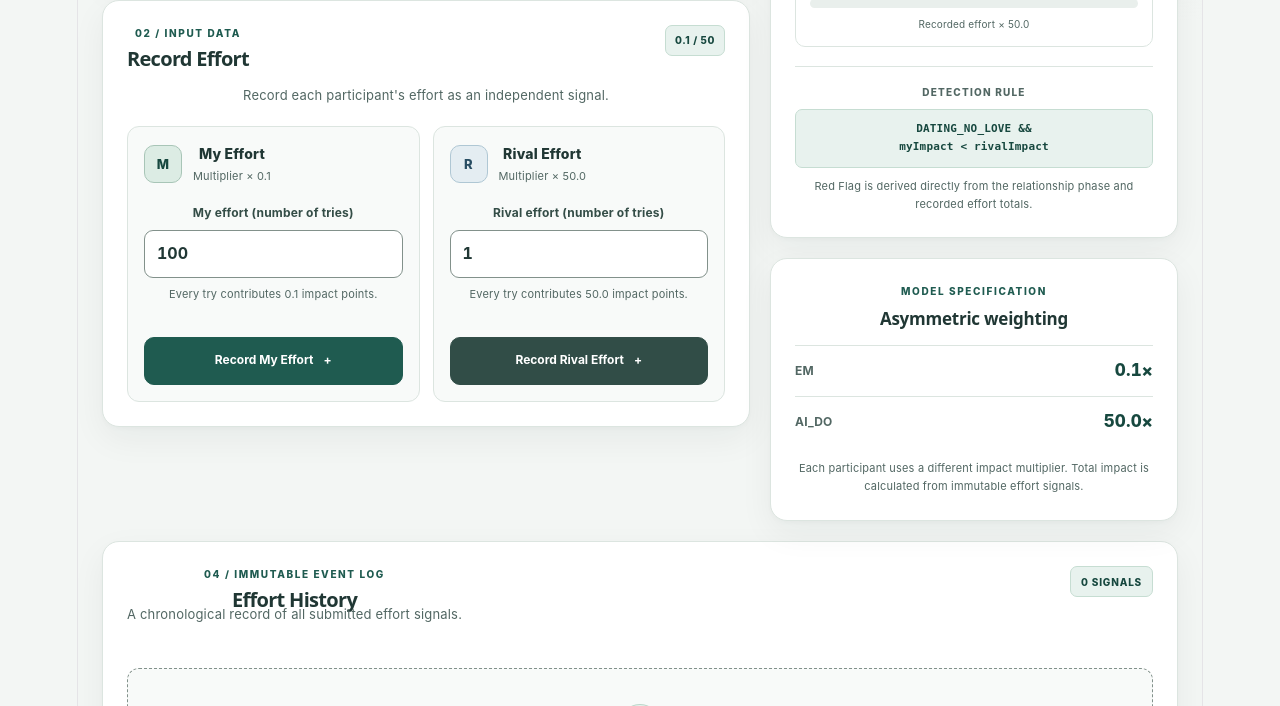
Test case: SituationshipAnalyzer › records effort signals and calculates total impacts
(page scrolled)
Click the button "Record My Effort +" at (273, 361), box x1=144 y1=337 x2=402 y2=385
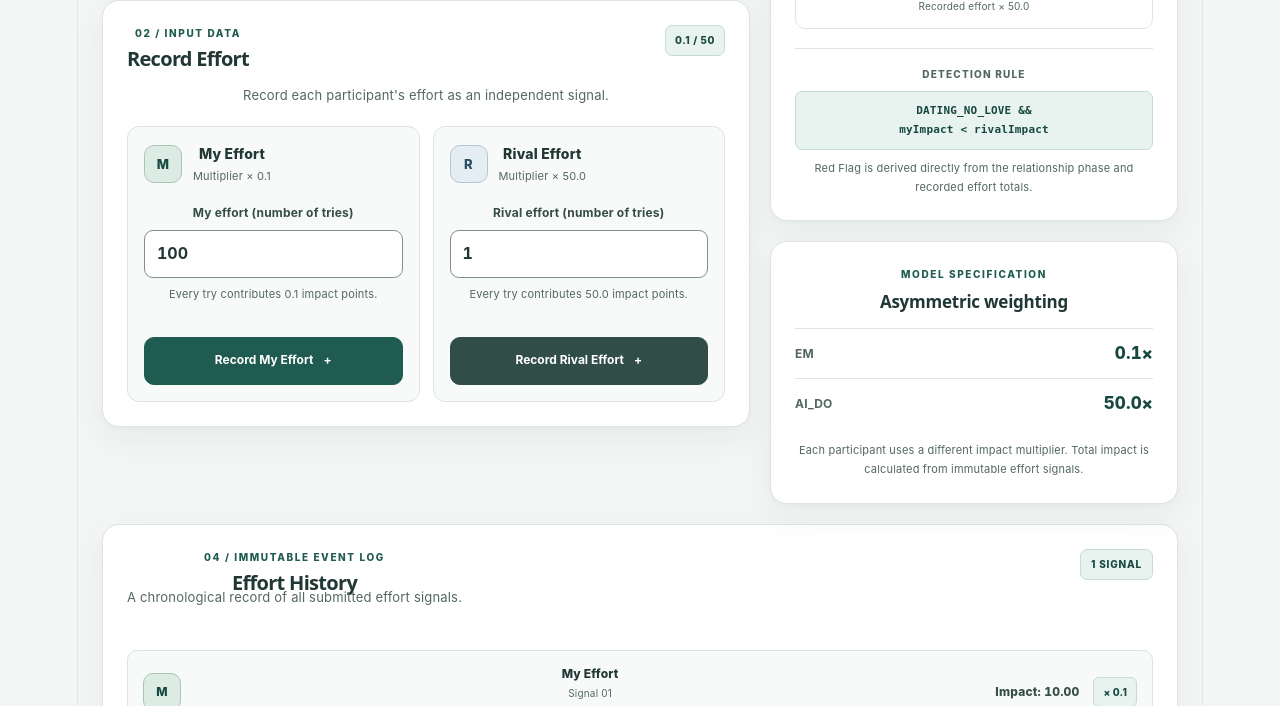
Click the button "Record Rival Effort +" at (579, 361), box x1=450 y1=337 x2=708 y2=385
(page scrolled)
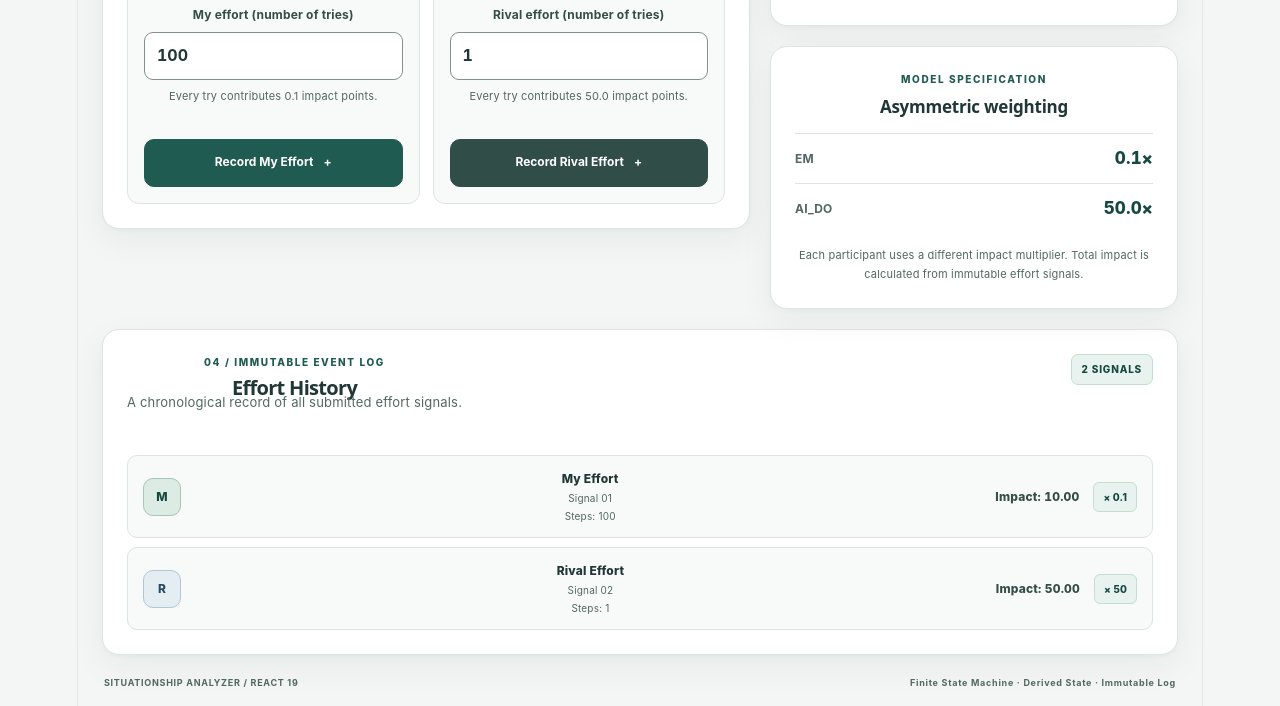
Expected: the text "Steps: 100" is shown, x1=565 y1=510 x2=616 y2=522
Expected: the text "Impact: 10.00" is shown, x1=995 y1=489 x2=1079 y2=504
Expected: the text "Steps: 1" is shown, x1=571 y1=602 x2=609 y2=614
